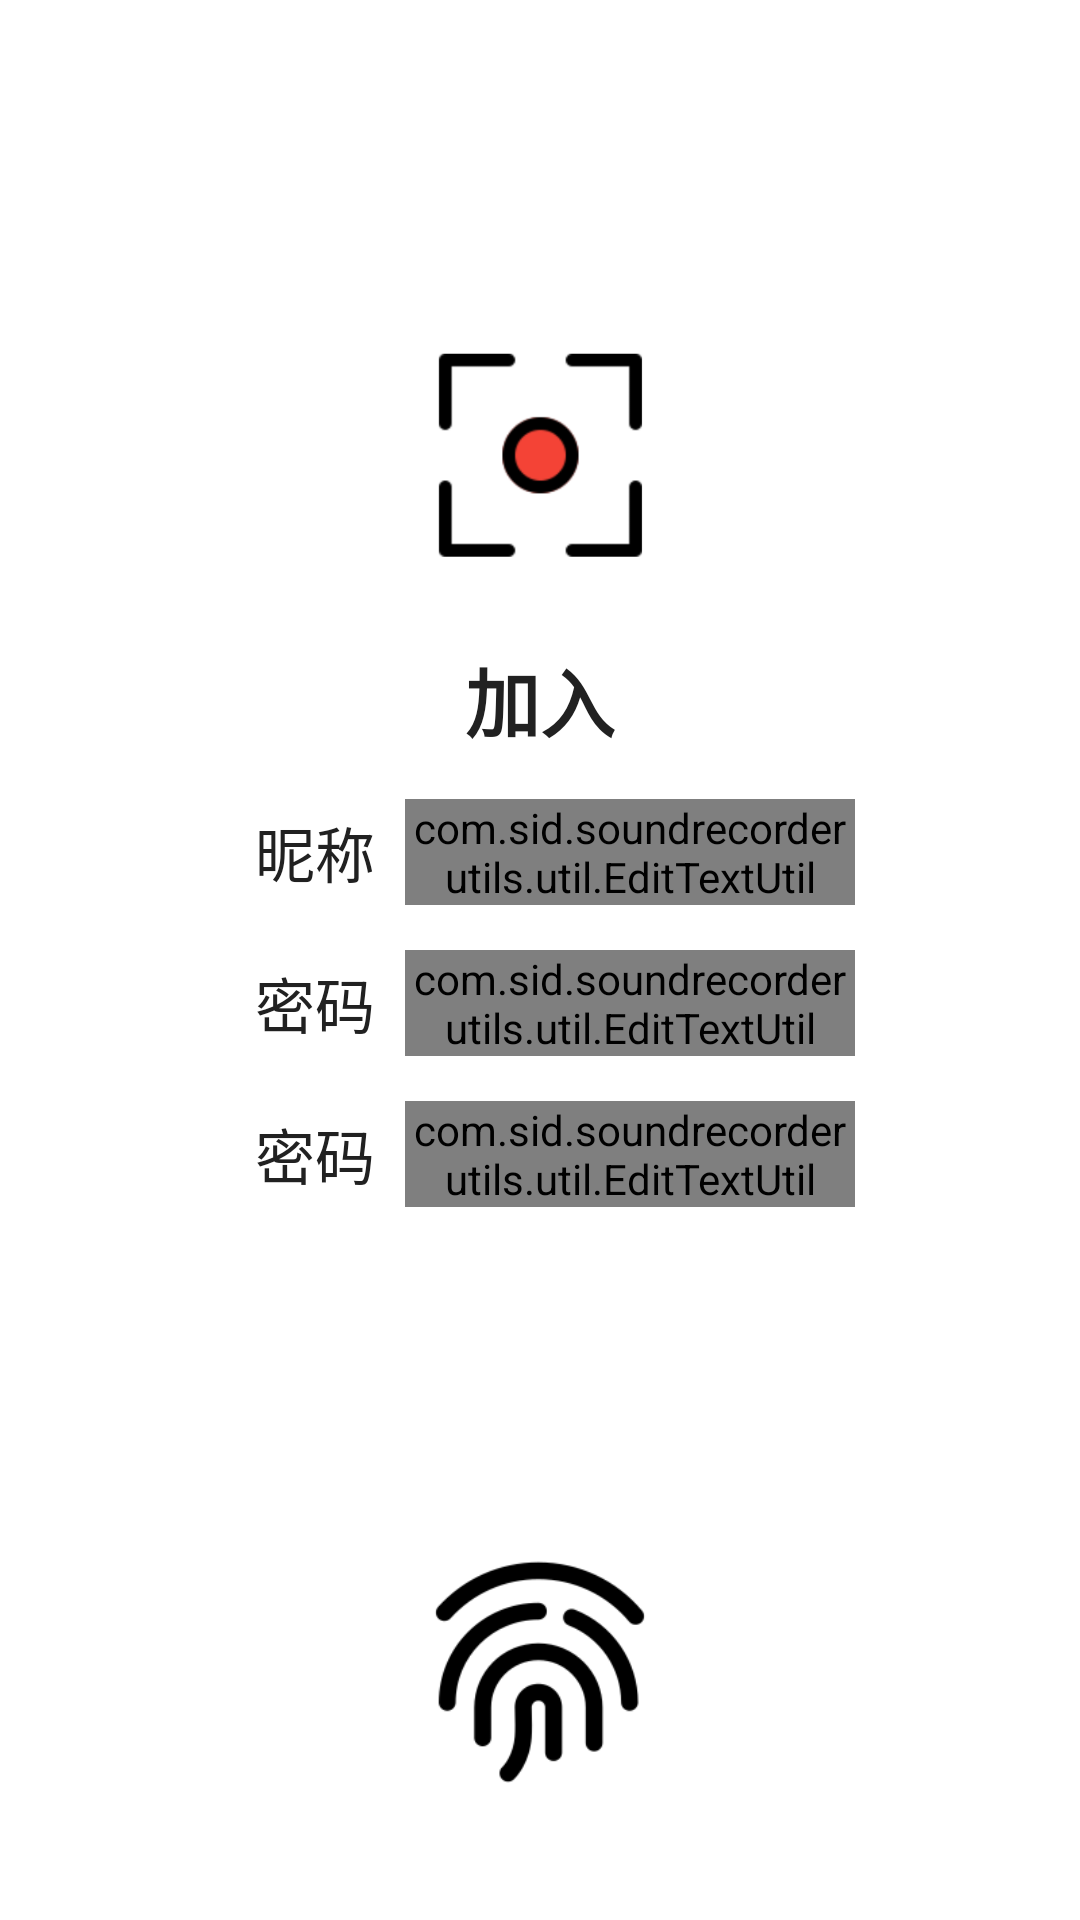

Icons on this 1080×1920 Android screen, each with its box as BBox(x1, y1, x2, y2):
zhiwen: BBox(435, 1561, 645, 1783)
